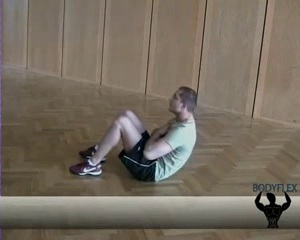sit_up: (63, 89, 193, 180)
